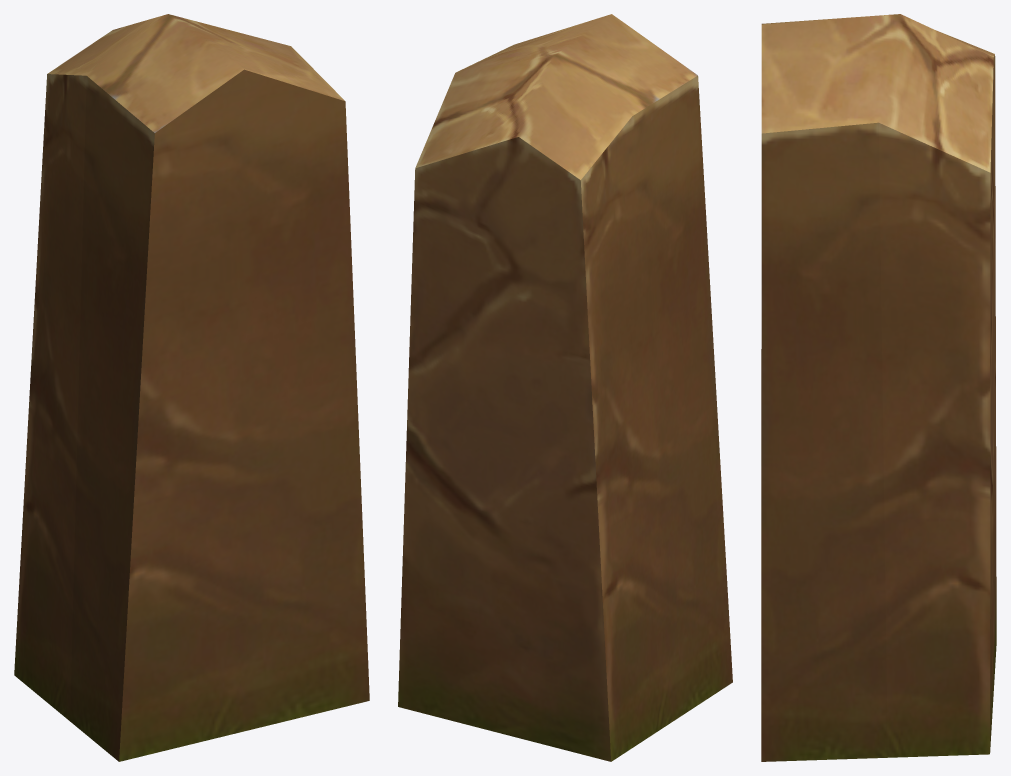
File: CeShi_BFB07_CanQiang03.FBX
3 views of the same model, side by side, from view 1: azimuth 30°, elevation 25°; view 2: azimuth 150°, elevation 25°; view 3: azimuth 270°, elevation 25° (orthographic). The views are drawn at different scales.
Visible parts, largest first — view 1: CeShi_BFB07_CanQiang03; view 2: CeShi_BFB07_CanQiang03; view 3: CeShi_BFB07_CanQiang03.
Part boxes in pixels (x1=…): CeShi_BFB07_CanQiang03: x1=14, y1=14, x2=369, y2=761; CeShi_BFB07_CanQiang03: x1=398, y1=14, x2=732, y2=761; CeShi_BFB07_CanQiang03: x1=761, y1=14, x2=996, y2=761.
Size of the model in its own units: 134 by 343 by 107.
